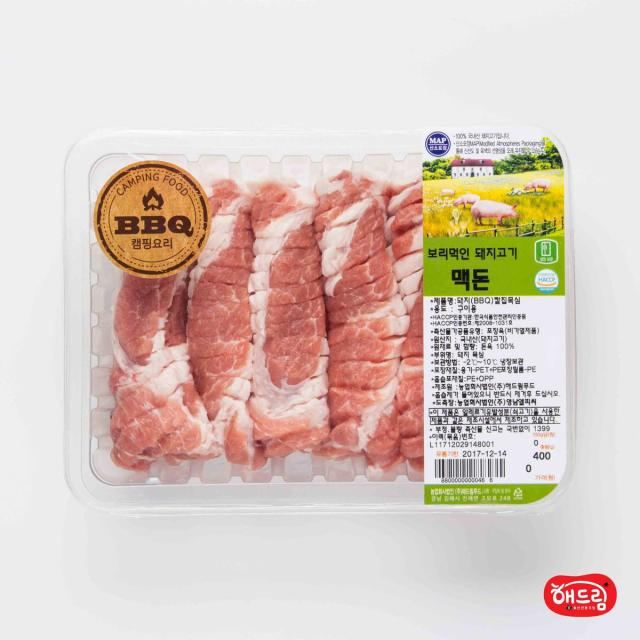pork: (73, 122, 592, 514)
